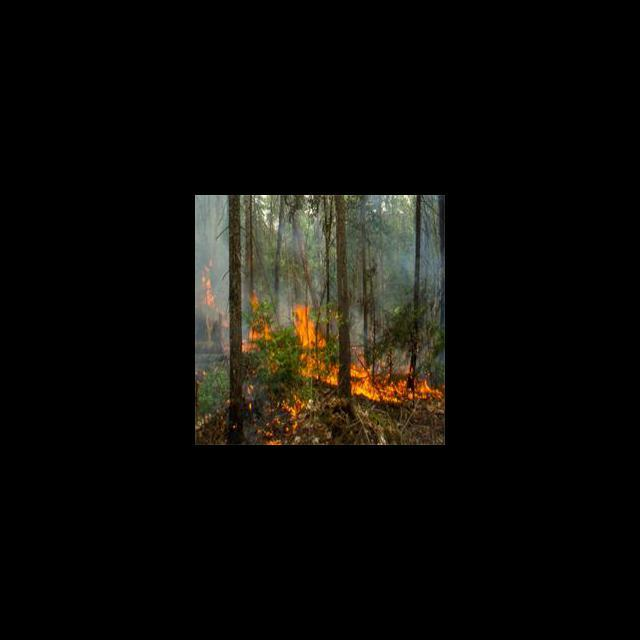Fire: (351, 351, 445, 403), (298, 306, 338, 386), (259, 397, 305, 444), (243, 293, 274, 353), (201, 259, 216, 306)
